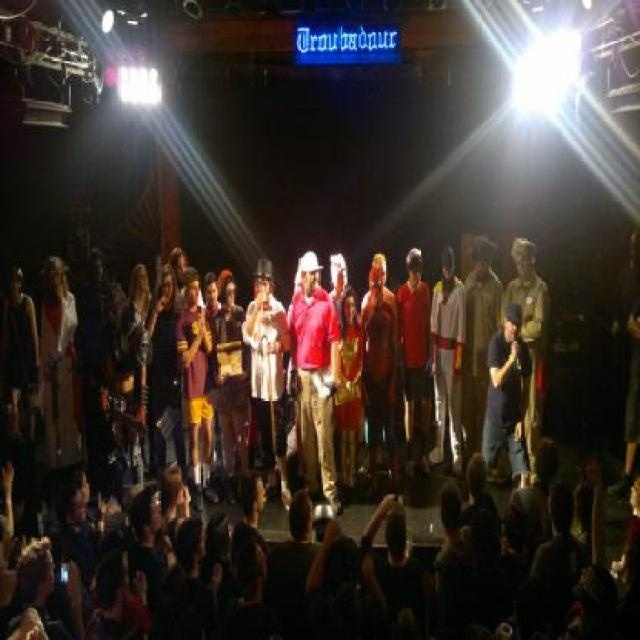obstacle: (3, 237, 639, 638), (284, 252, 339, 488)
